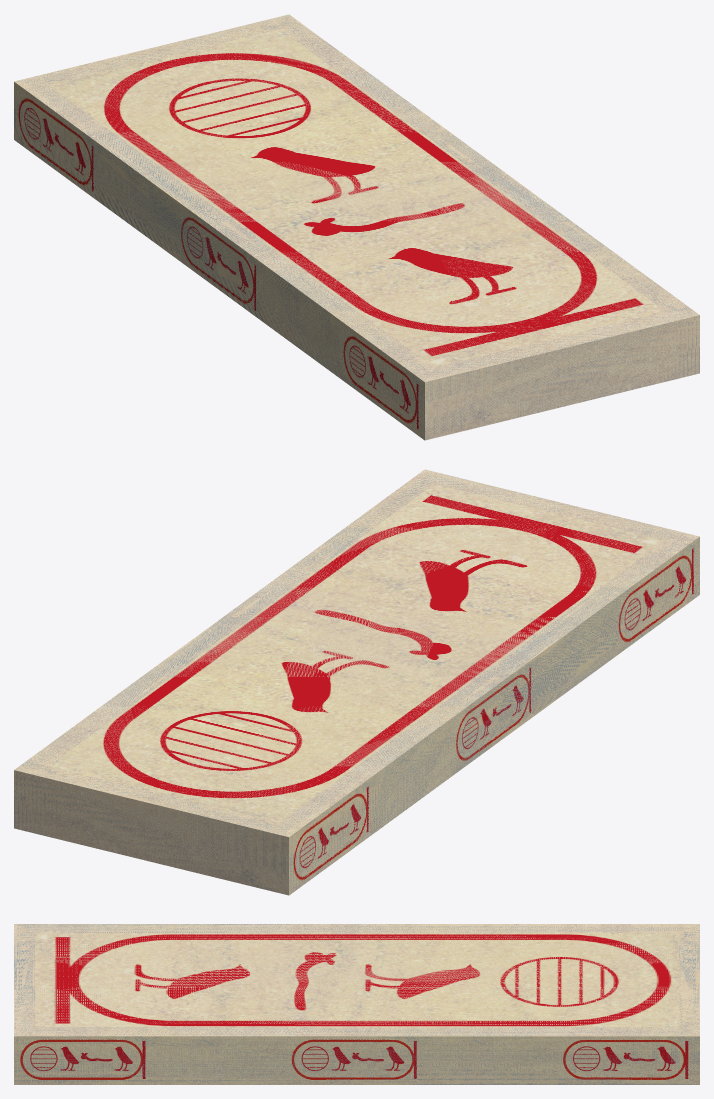
File: sarcophagus-lid.dae
3 renders of one model, top to bottom at view 1: azimuth 30°, elevation 25°; view 2: azimuth 150°, elevation 25°; view 3: azimuth 270°, elevation 25°, orthographic. The views are drawn at different scales.
Parts seen in each view (by area): view 1: SketchUp (×3); view 2: SketchUp (×3); view 3: SketchUp (×3).
Part boxes in pixels (left/top/right/bottom): SketchUp (×3): left=14, top=14, right=699, bottom=440; SketchUp (×3): left=14, top=469, right=699, bottom=895; SketchUp (×3): left=14, top=924, right=699, bottom=1084.
Size of the model in its own units: 35.19 by 91 by 7.12.
